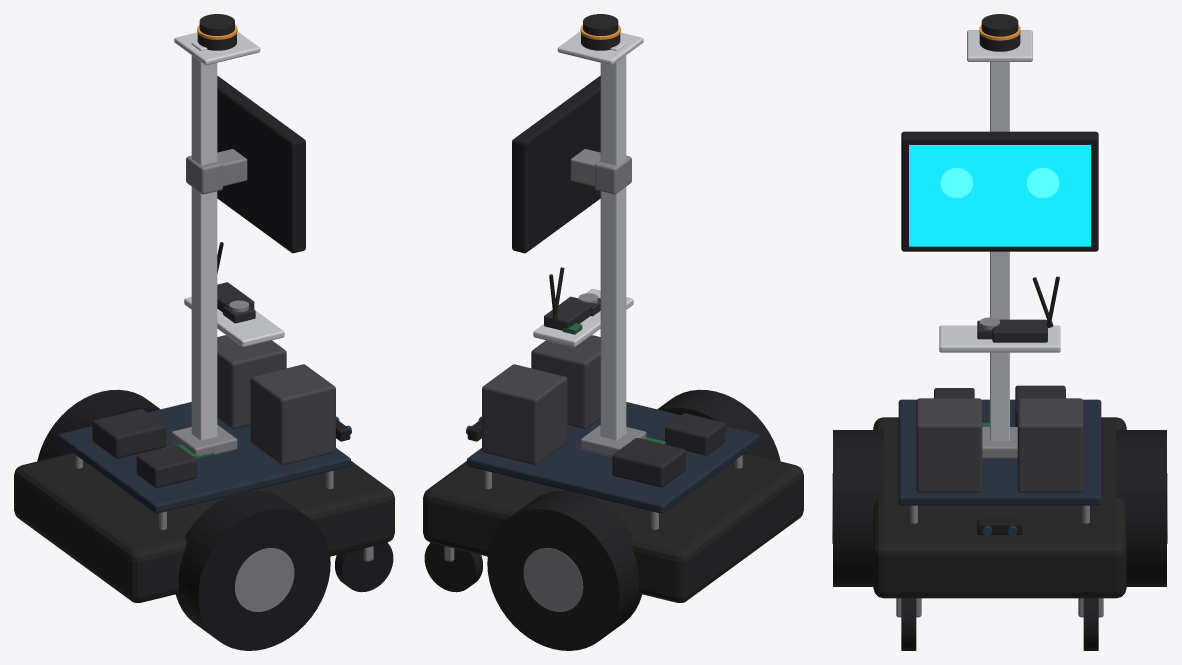
File: robomo.glb
3 views of the same model, side by side, from view 1: azimuth 30°, elevation 25°; view 2: azimuth 150°, elevation 25°; view 3: azimuth 270°, elevation 25° (orthographic). The views are drawn at different scales.
Visible parts, largest first — view 1: base, tire-1, deck, monbody, pole, battery-1, battery1, hub-1, tire1, jetson, cwheel-1, sabertooth (+7 smaller); view 2: base, tire1, deck, monbody, pole, battery1, battery-1, tire-1, hub1, jetson, cwheel1, sabertooth (+7 smaller); view 3: base, screen, deck, tire1, tire-1, battery1, battery-1, monbody, pole, eshelf, laser_shelf, router (+9 smaller).
Boxes of the visible parts, x1,y1,x2,y2 form: base: (14, 454, 394, 602); tire-1: (175, 491, 330, 650); deck: (58, 402, 350, 513); monbody: (217, 75, 305, 253); pole: (191, 41, 217, 440); battery-1: (250, 364, 335, 465); battery1: (217, 335, 286, 429); hub-1: (234, 548, 294, 611); tire1: (37, 389, 160, 461); jetson: (92, 409, 165, 458); cwheel-1: (335, 542, 393, 592); sabertooth: (136, 445, 197, 487); base: (423, 454, 803, 602); tire1: (487, 491, 642, 650); deck: (467, 402, 759, 513); monbody: (512, 75, 600, 253); pole: (600, 41, 626, 440); battery1: (482, 364, 567, 465); battery-1: (531, 335, 600, 429); tire-1: (657, 389, 780, 461); hub1: (523, 548, 583, 611); jetson: (612, 438, 685, 487); cwheel1: (424, 542, 482, 592); sabertooth: (665, 413, 725, 455); base: (873, 417, 1126, 598); screen: (909, 145, 1090, 246); deck: (898, 399, 1101, 505); tire1: (1116, 430, 1166, 586); tire-1: (833, 430, 883, 586); battery1: (1017, 398, 1083, 492); battery-1: (916, 398, 982, 492); monbody: (901, 131, 1098, 251); pole: (990, 62, 1009, 440); eshelf: (939, 325, 1060, 352); laser_shelf: (967, 30, 1032, 61); router: (992, 319, 1047, 342).
Bounding box in the file's own units: 0.64 × 1.25 × 0.662.
